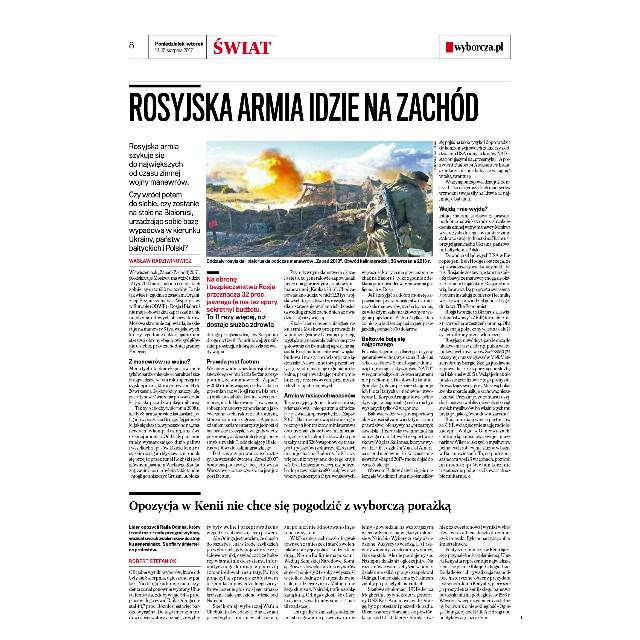article: (126, 81, 514, 482), (123, 489, 514, 626)
